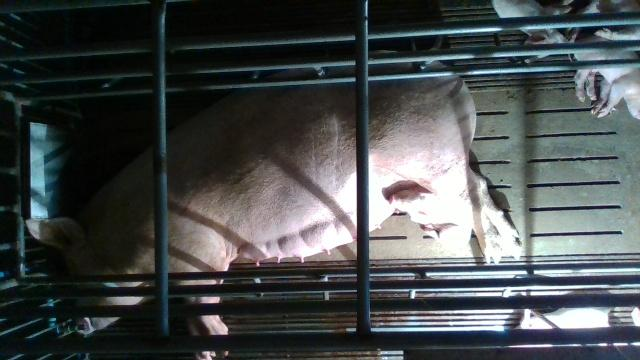piglet: (392, 191, 473, 249), (575, 52, 640, 119), (492, 0, 578, 44)
sow-sleep-lactate: (26, 48, 525, 360)
